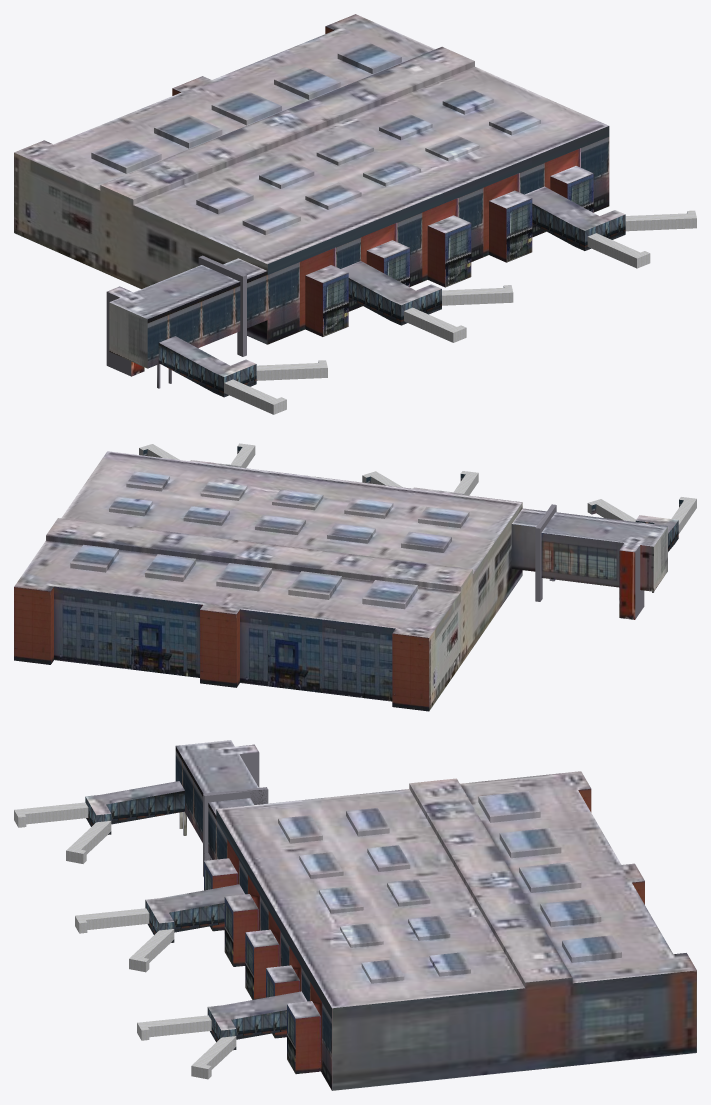
The model's file is Terminal_C.fbx.
3 views of the same model, one above another, from view 1: azimuth 30°, elevation 25°; view 2: azimuth 150°, elevation 25°; view 3: azimuth 270°, elevation 25° (orthographic). The views are drawn at different scales.
Parts seen in each view (by area): view 1: Model; view 2: Model; view 3: Model.
Boxes of the visible parts, x1=… form: Model: x1=14, y1=14, x2=696, y2=414; Model: x1=14, y1=443, x2=696, y2=711; Model: x1=14, y1=740, x2=696, y2=1090.
Size of the model in its own units: 189 by 27.19 by 190.
34 materials, 34 textured.
